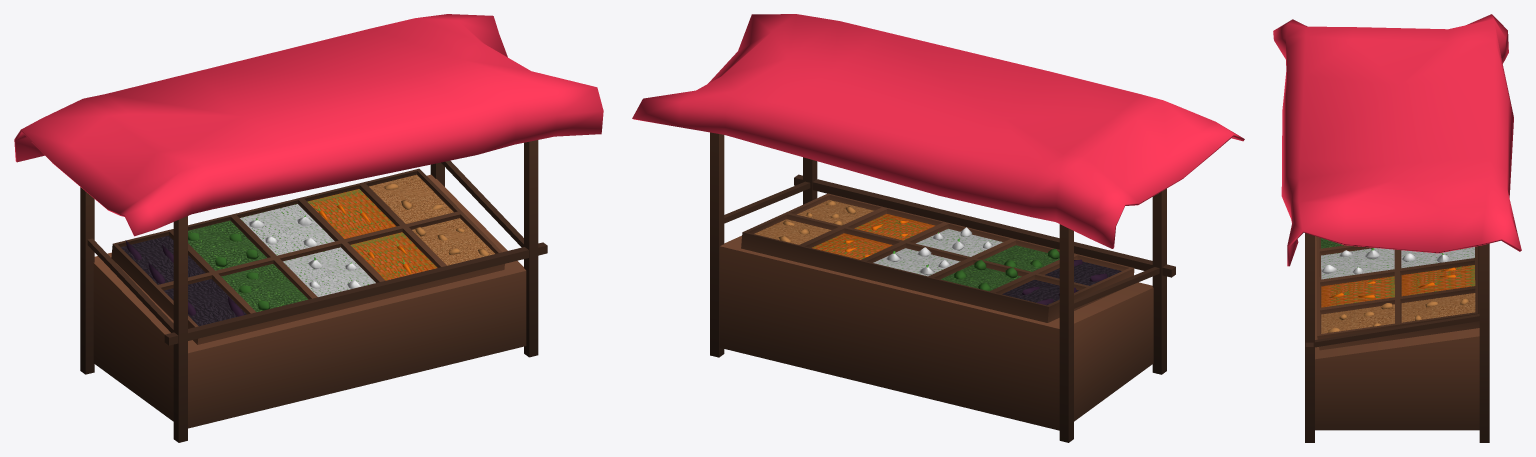
The model's file is StandPasar4.fbx.
3 renders of one model, left to right at view 1: azimuth 30°, elevation 25°; view 2: azimuth 150°, elevation 25°; view 3: azimuth 270°, elevation 25°, orthographic. The views are drawn at different scales.
Parts seen in each view (by area): view 1: MejaJualan2Body1_LOD0, MejaJualan2Body2_LOD0, MejaJualan2Body3_LOD0.001, MejaJualan2Body3_LOD0, FoodGarlic_LOD0, FoodBroccoli_LOD0, FoodEggplant_LOD0; view 2: MejaJualan2Body1_LOD0, MejaJualan2Body2_LOD0, MejaJualan2Body3_LOD0, MejaJualan2Body3_LOD0.001, FoodGarlic_LOD0, FoodBroccoli_LOD0; view 3: MejaJualan2Body1_LOD0, MejaJualan2Body2_LOD0, MejaJualan2Body3_LOD0.001, MejaJualan2Body3_LOD0, FoodGarlic_LOD0, FoodPotato_LOD0, FoodCarot_LOD0.
Boxes of the visible parts, box(x1,y1,x2,y2) form: MejaJualan2Body1_LOD0: box(14, 14, 603, 236); MejaJualan2Body2_LOD0: box(80, 140, 547, 442); MejaJualan2Body3_LOD0.001: box(121, 174, 494, 326); MejaJualan2Body3_LOD0: box(111, 168, 504, 344); FoodGarlic_LOD0: box(249, 215, 361, 288); FoodBroccoli_LOD0: box(188, 232, 269, 310); FoodEggplant_LOD0: box(125, 240, 244, 316); MejaJualan2Body1_LOD0: box(632, 14, 1244, 248); MejaJualan2Body2_LOD0: box(710, 132, 1175, 442); MejaJualan2Body3_LOD0: box(741, 193, 1134, 322); MejaJualan2Body3_LOD0.001: box(754, 200, 1121, 305); FoodGarlic_LOD0: box(886, 227, 992, 275); FoodBroccoli_LOD0: box(954, 248, 1059, 290); MejaJualan2Body1_LOD0: box(1273, 14, 1521, 266); MejaJualan2Body2_LOD0: box(1305, 233, 1489, 442); MejaJualan2Body3_LOD0.001: box(1321, 238, 1475, 333); MejaJualan2Body3_LOD0: box(1316, 237, 1479, 350); FoodGarlic_LOD0: box(1321, 248, 1450, 274); FoodPotato_LOD0: box(1328, 298, 1468, 332); FoodCarot_LOD0: box(1329, 266, 1461, 298).
Size of what is drawn, in the model's own units: 564 by 304 by 270.
